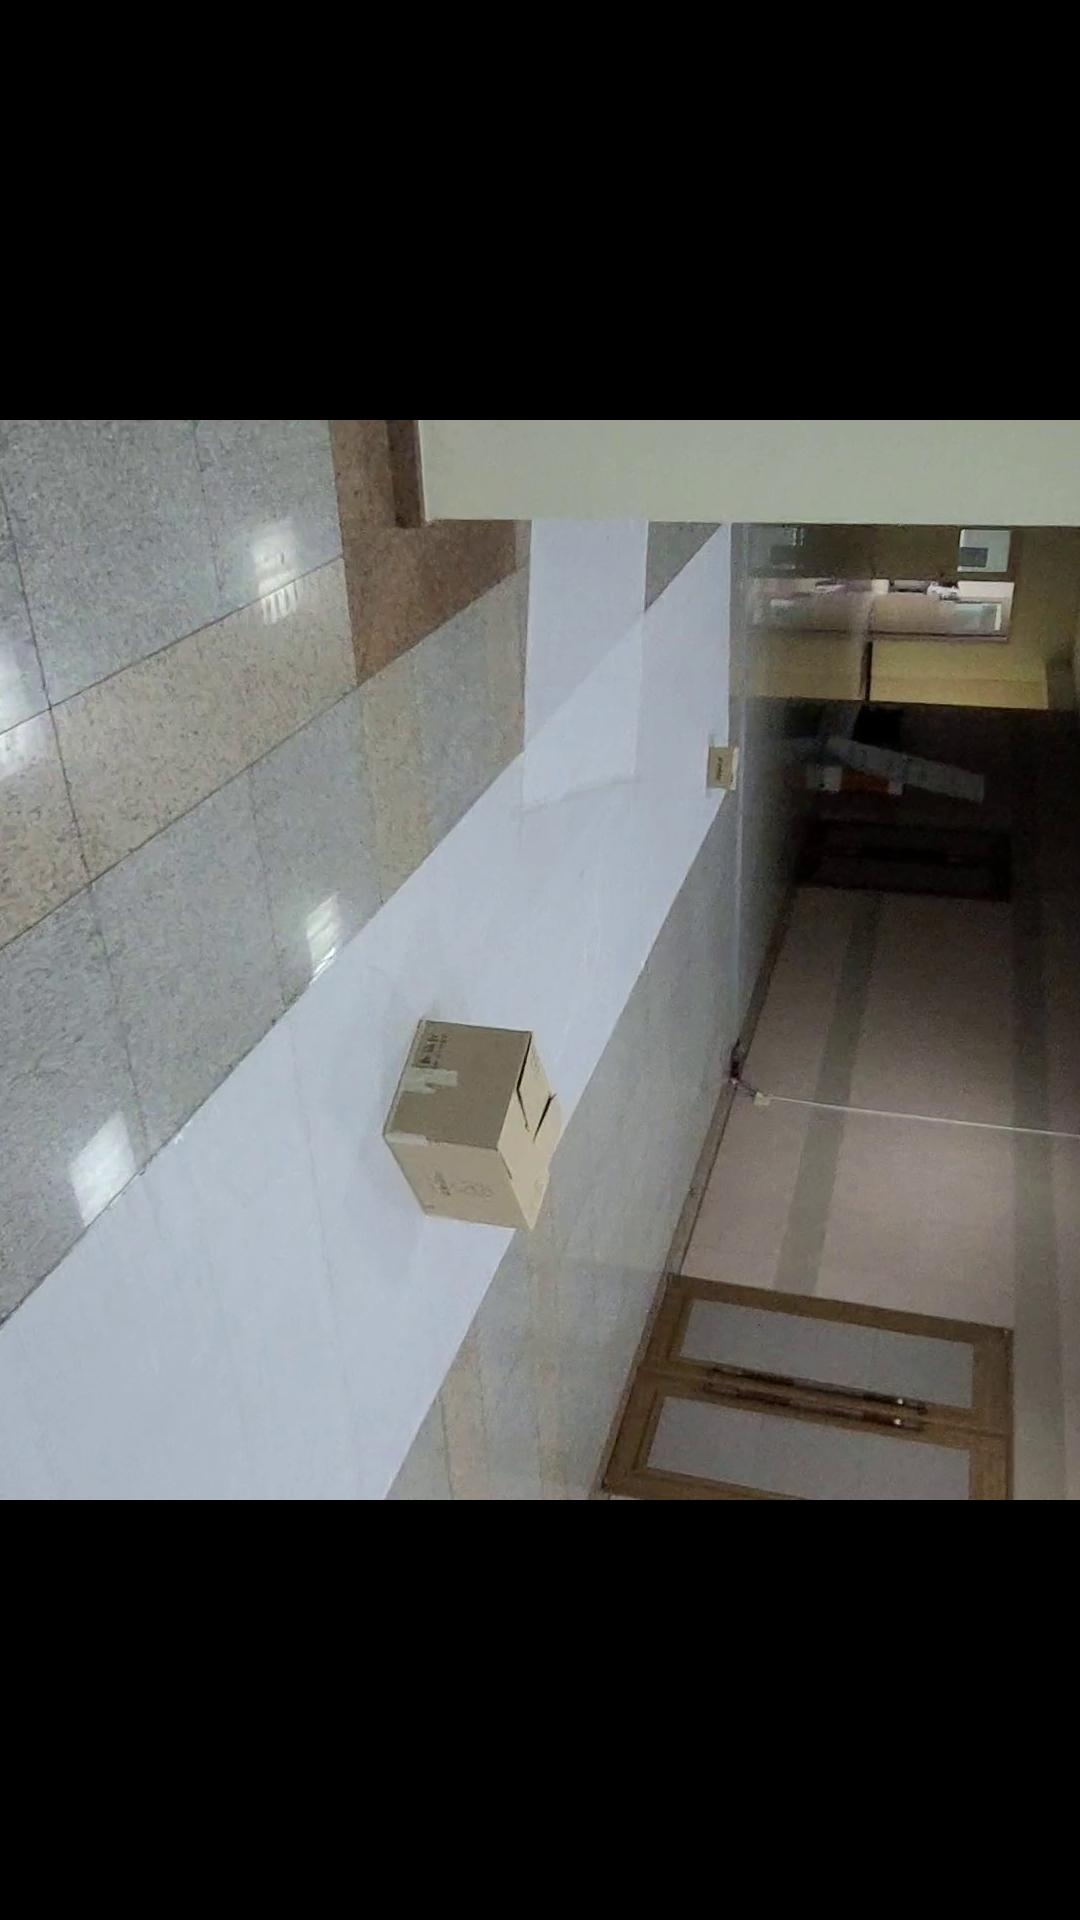Box: (330, 957, 622, 1279), (676, 723, 767, 825)
